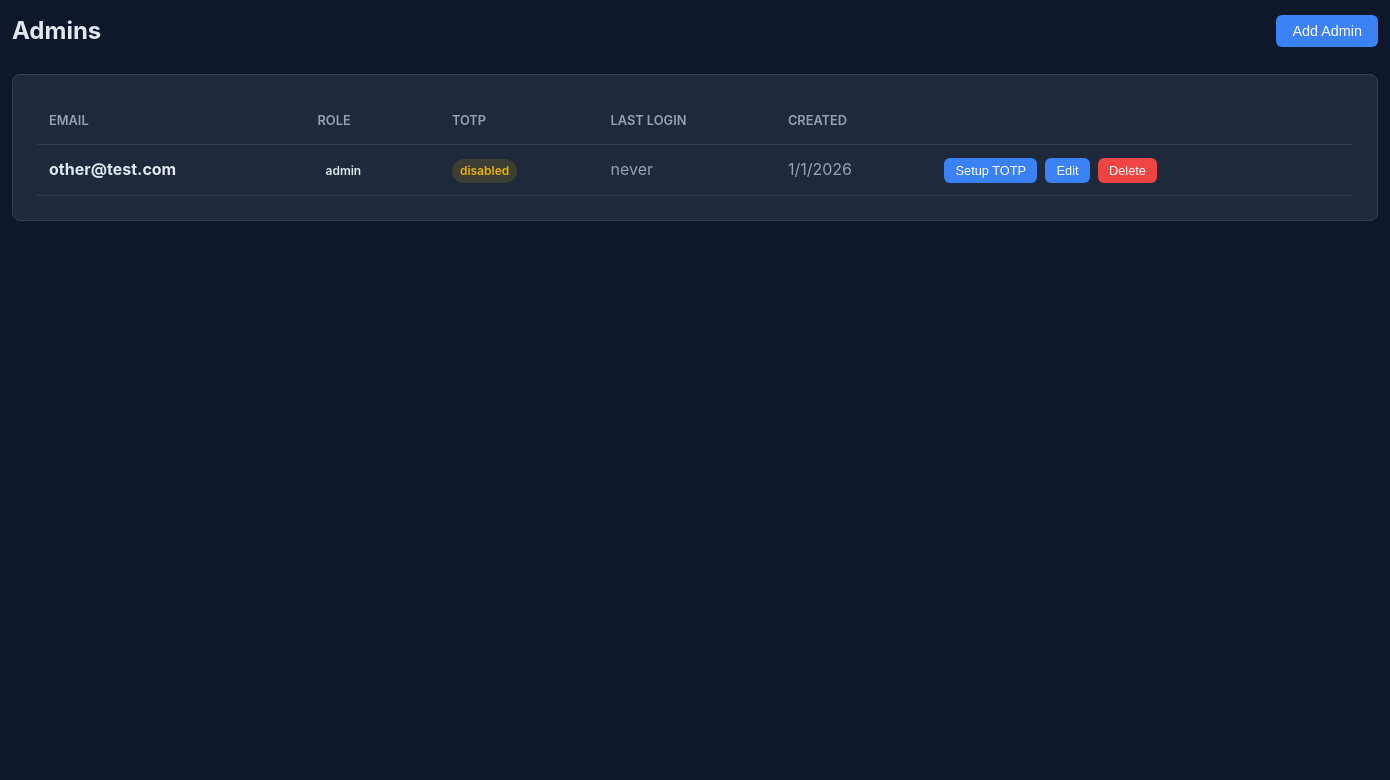
Test: AdminsPage › requires TOTP code when acting admin has TOTP enabled
The image size is (1390, 780).
Expected: the text "other@test.com" is shown, [49, 159, 176, 179]
Click the button "Edit": click(1068, 170) [1045, 158, 1090, 183]
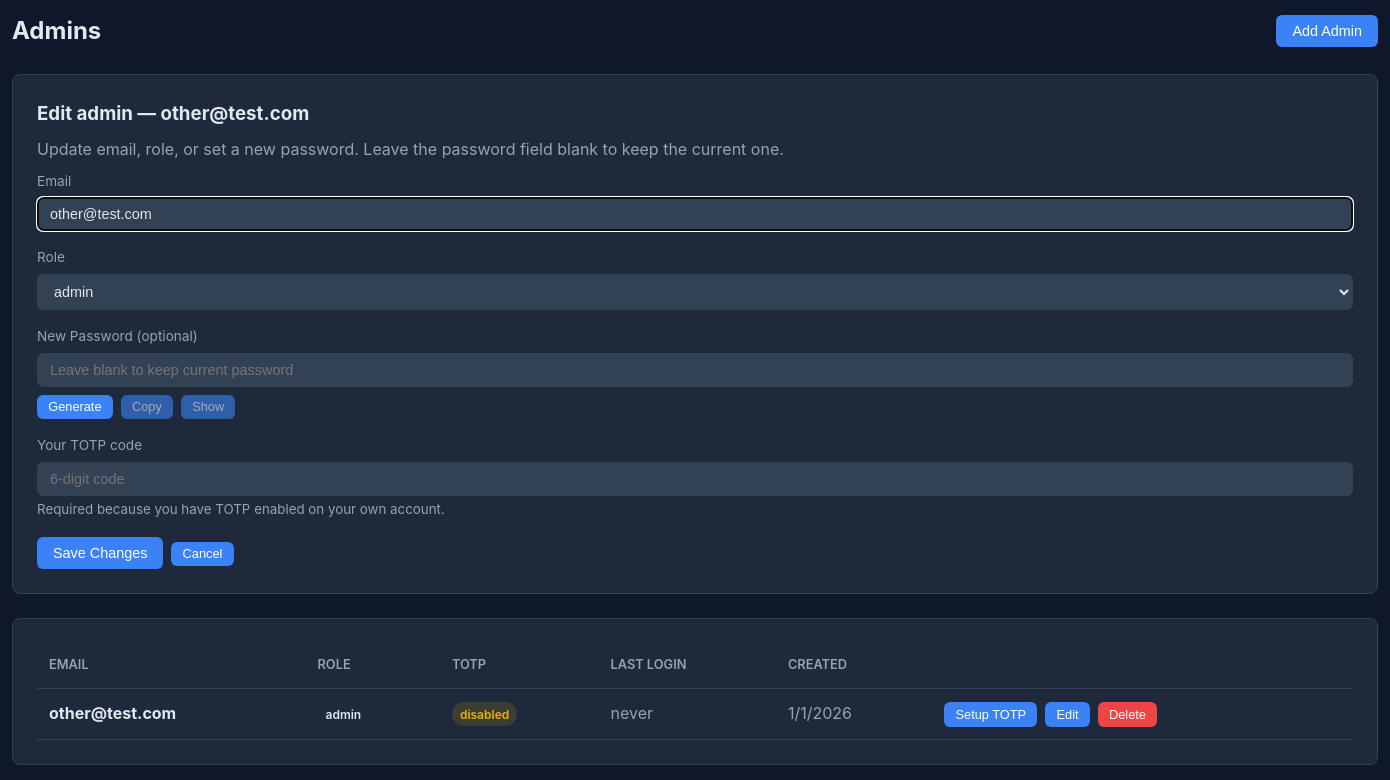
Expected: the text "Your TOTP code" is shown, [37, 437, 142, 453]
